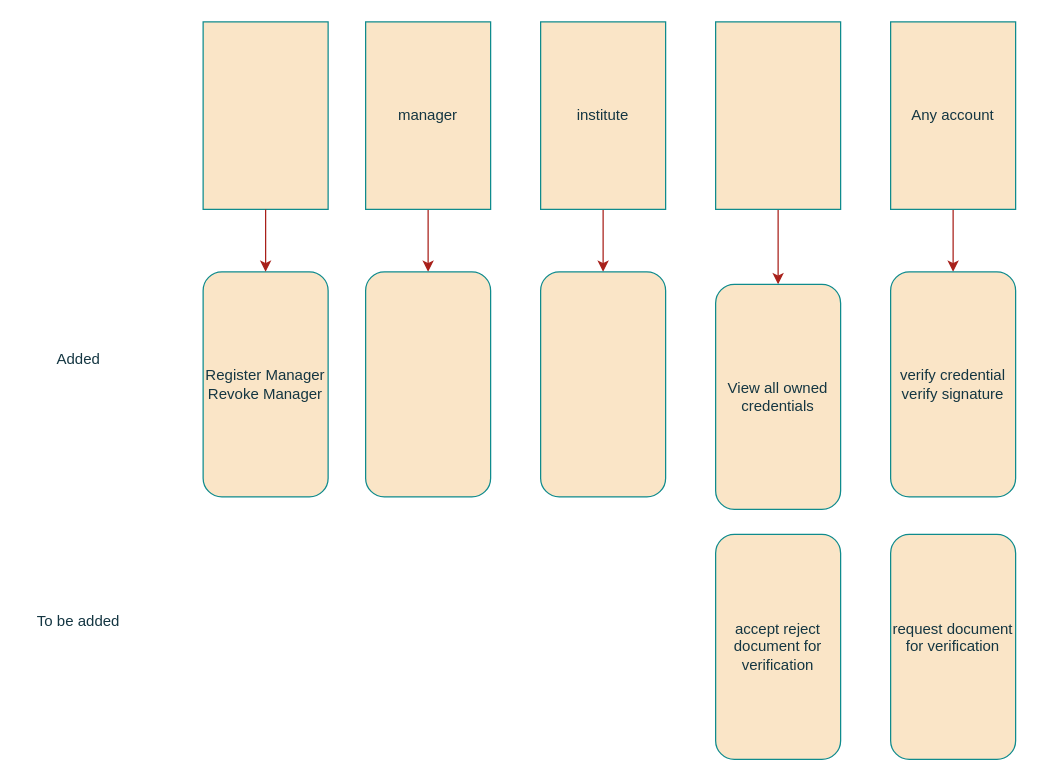
Some shapes in this 1038 by 781 pixel diagram are drawn without their labels. Here are the shapes that lost their labels. From the top down, the box of each, then its label:
(202, 21, 328, 209): admin
(714, 21, 841, 209): student
(364, 271, 491, 497): Register Institute Revoke Institute
(539, 271, 666, 497): Issue Credential Revoke Credential List all issued credentials
